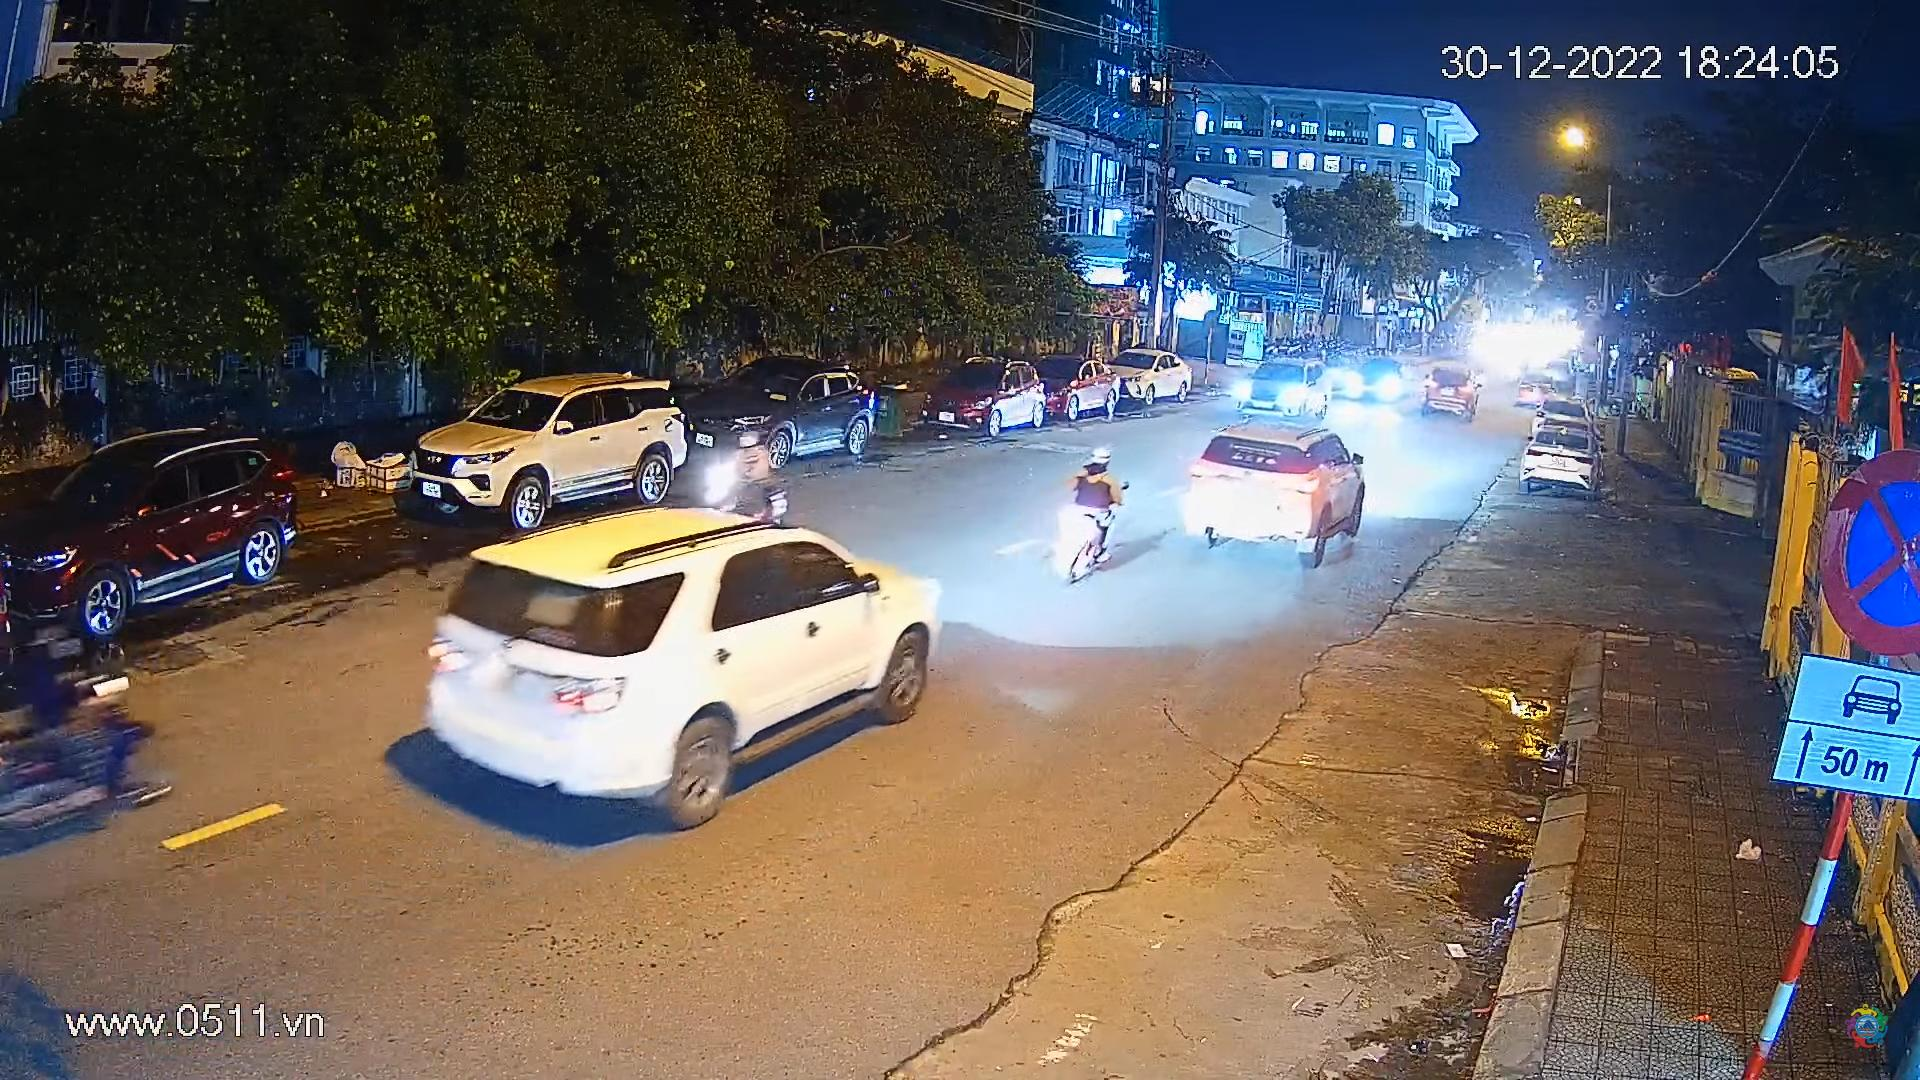car: (415, 487, 959, 845), (0, 409, 310, 641), (402, 364, 692, 533), (1178, 407, 1383, 571), (686, 347, 887, 473), (930, 352, 1055, 443), (1036, 345, 1133, 427), (1518, 417, 1602, 498), (1236, 357, 1332, 421), (1104, 348, 1200, 410), (1419, 363, 1484, 421), (1349, 356, 1412, 401), (1530, 402, 1589, 438), (1516, 372, 1557, 409), (1544, 352, 1578, 394)
motorcycle: (0, 613, 186, 840), (1035, 442, 1151, 603), (702, 421, 789, 521)
